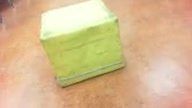cube: (39, 1, 125, 87)
